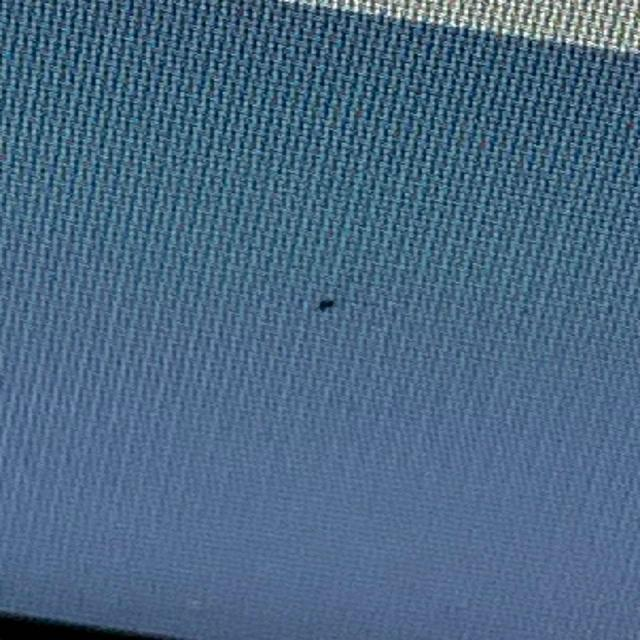Dead pixel: (318, 299, 336, 313)
